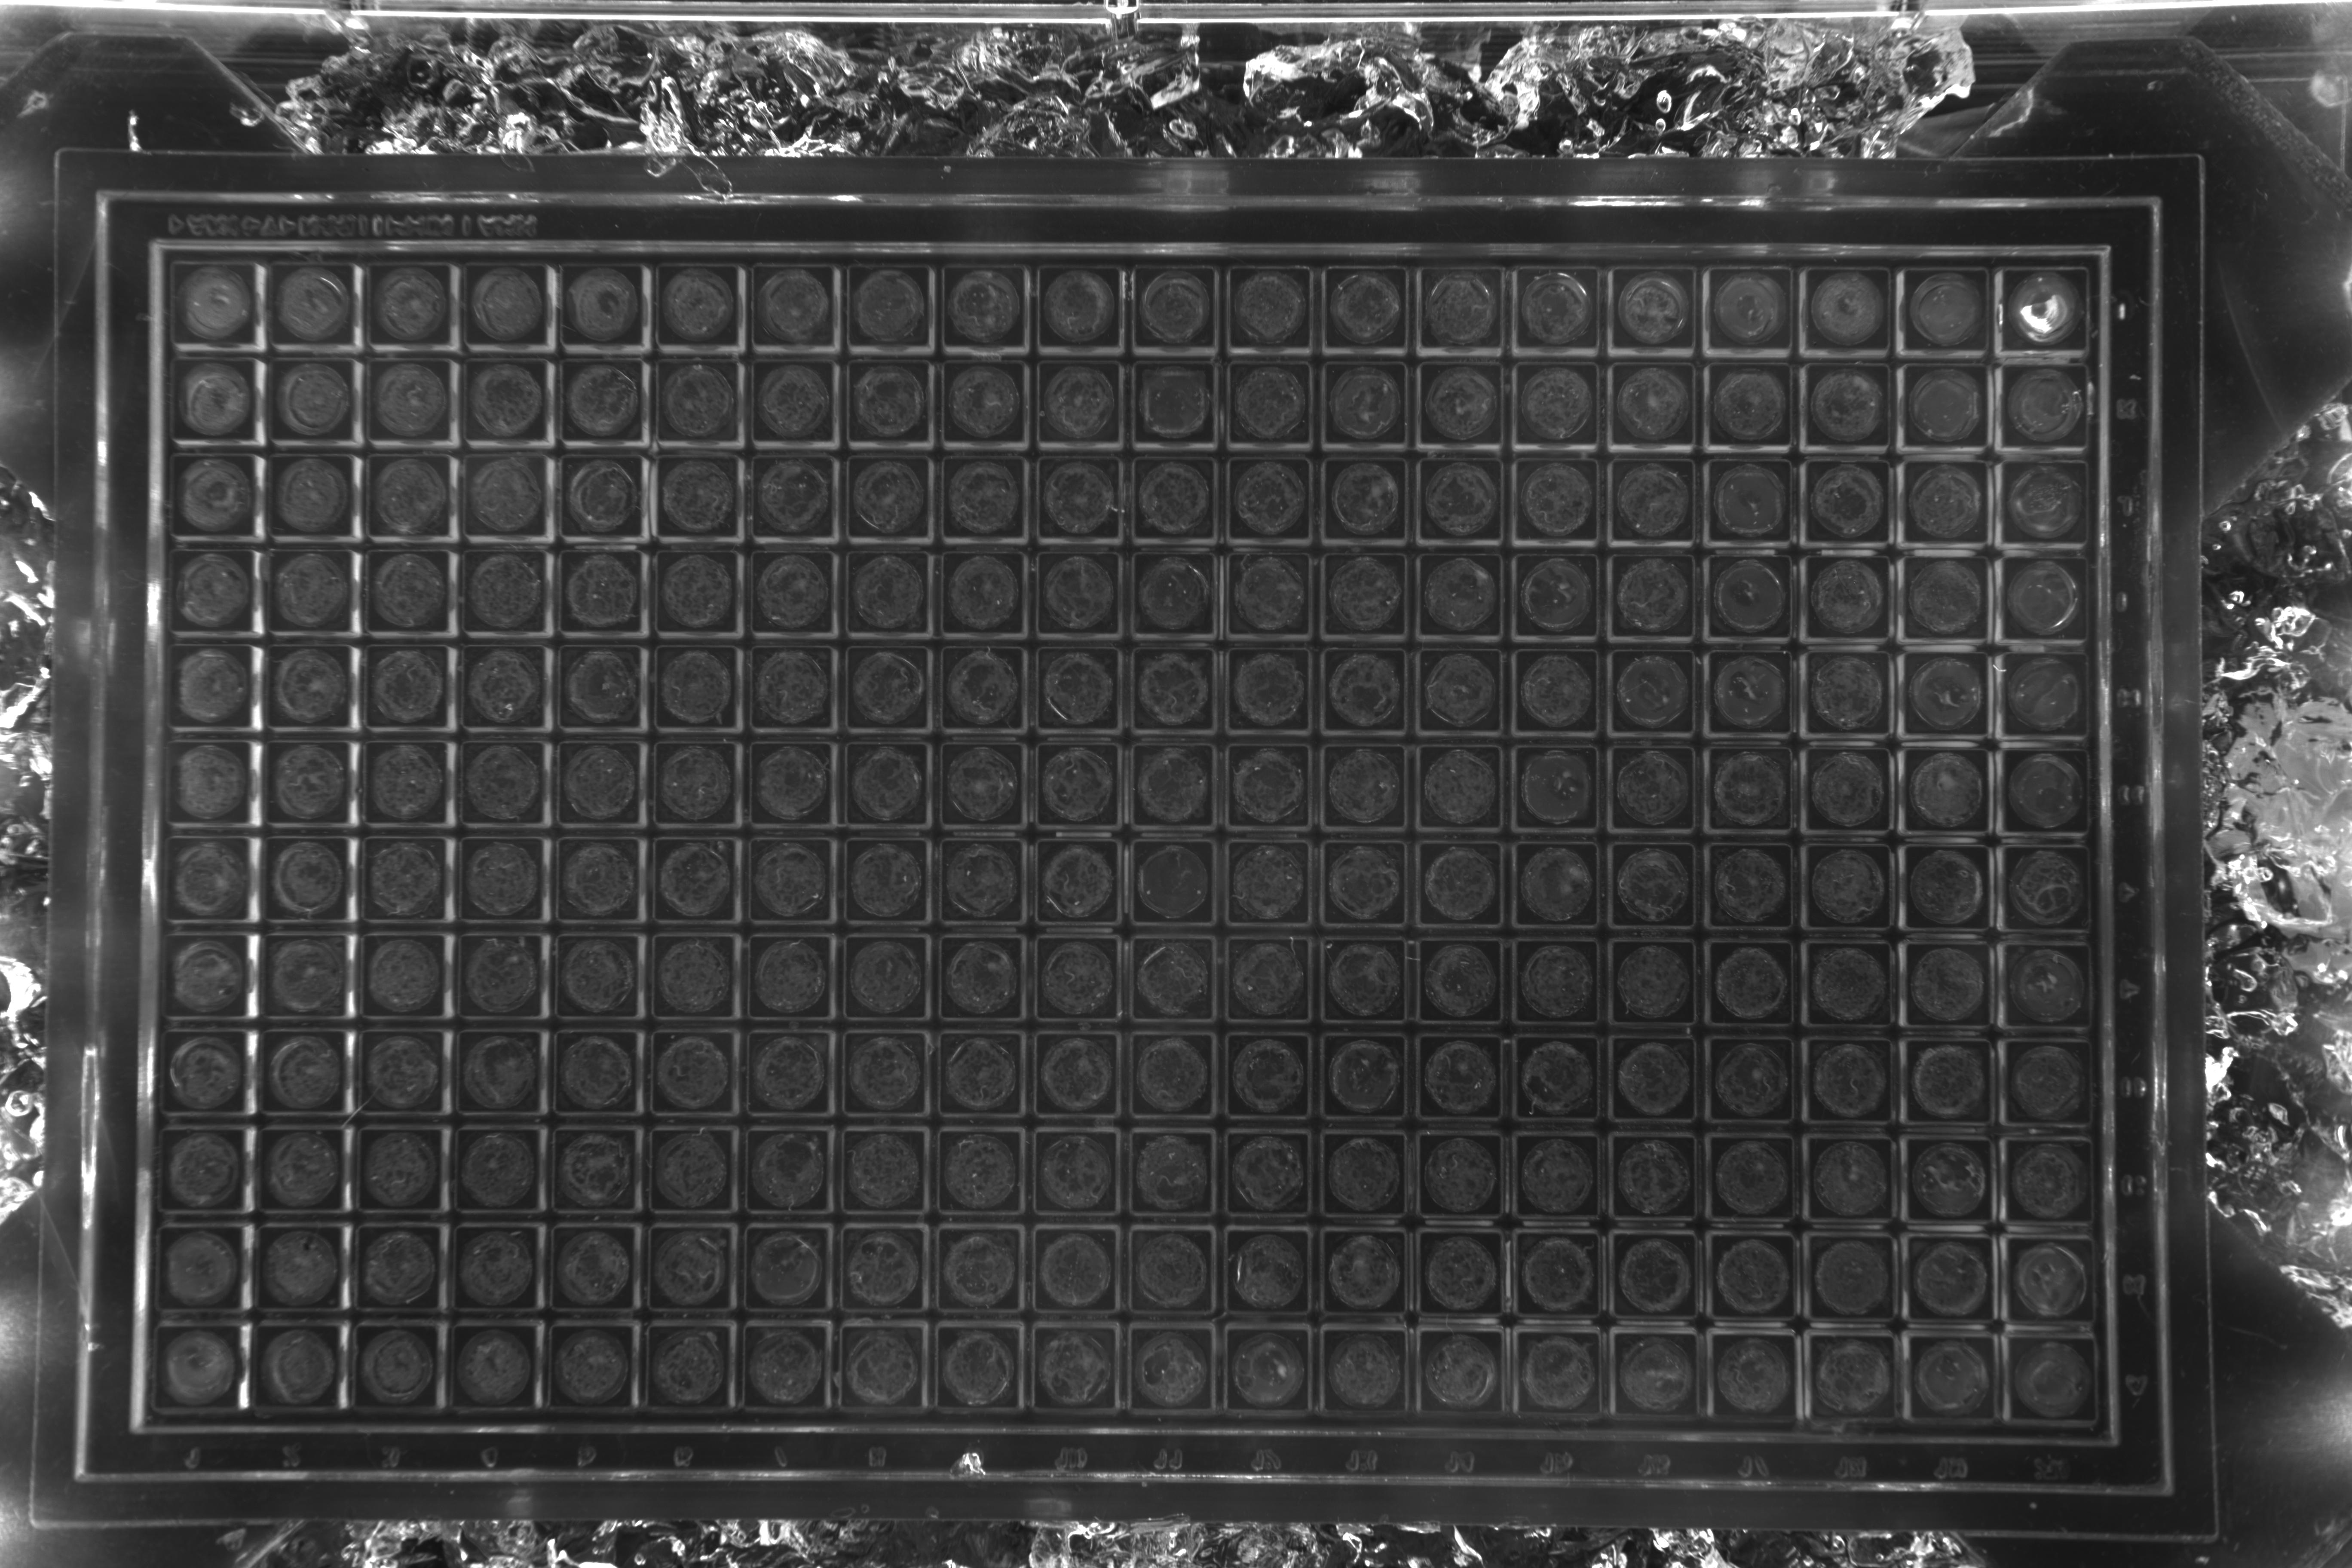WM_well: (497, 362, 586, 450), (689, 947, 779, 1034), (789, 462, 878, 549), (205, 553, 292, 640), (303, 457, 390, 544), (486, 1340, 574, 1428), (497, 749, 584, 836), (499, 458, 586, 546), (595, 362, 682, 450), (693, 558, 780, 646), (789, 849, 877, 936), (983, 752, 1071, 840), (1080, 850, 1167, 938), (1176, 269, 1263, 357), (1274, 754, 1361, 842), (1368, 367, 1456, 455), (1372, 1242, 1459, 1330), (1466, 560, 1554, 647), (1563, 464, 1650, 551), (1564, 850, 1652, 938), (1661, 560, 1748, 647), (1664, 950, 1752, 1038), (1664, 1048, 1752, 1136), (1962, 954, 2049, 1041)
